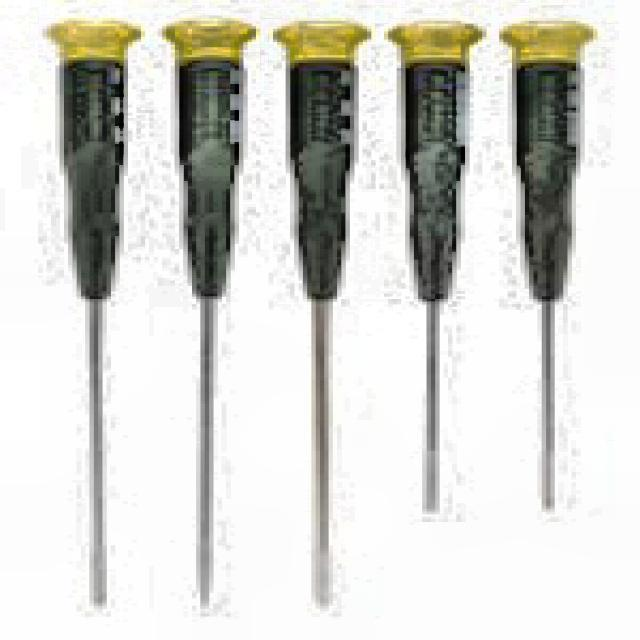screwdriver: (41, 22, 138, 610), (274, 19, 366, 604), (164, 21, 254, 606), (500, 20, 596, 510), (391, 23, 479, 510)
